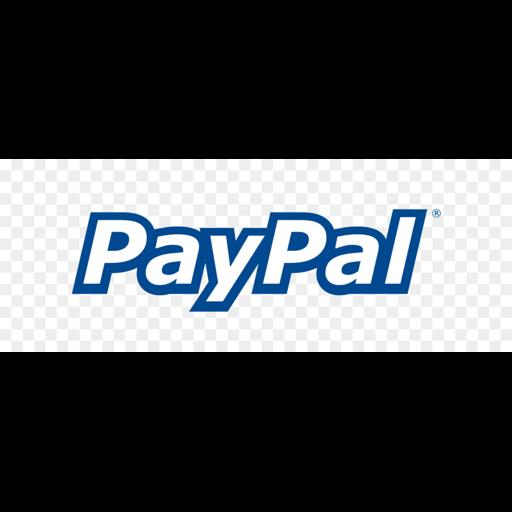PayPal: (0, 159, 512, 352)
